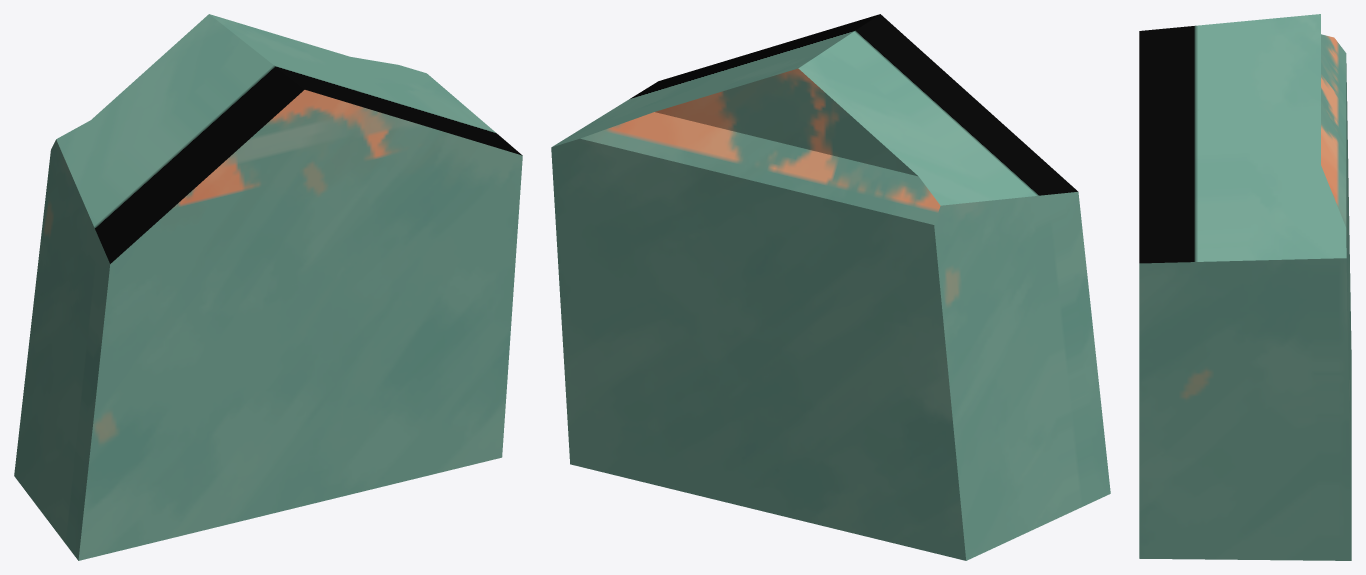
The model's file is wall_plain_s02.fbx.
The picture shows the model from 3 angles, left to right: view 1: azimuth 30°, elevation 25°; view 2: azimuth 150°, elevation 25°; view 3: azimuth 270°, elevation 25°; orthographic projection. The views are drawn at different scales.
Visible parts, largest first — view 1: wall_plain_s02; view 2: wall_plain_s02; view 3: wall_plain_s02.
Part boxes in pixels (x1,y1,x2,y2): wall_plain_s02: [14, 14, 522, 560]; wall_plain_s02: [551, 14, 1110, 560]; wall_plain_s02: [1139, 14, 1351, 560].
Size of the model in its own units: 2.94 by 2.68 by 1.17.
